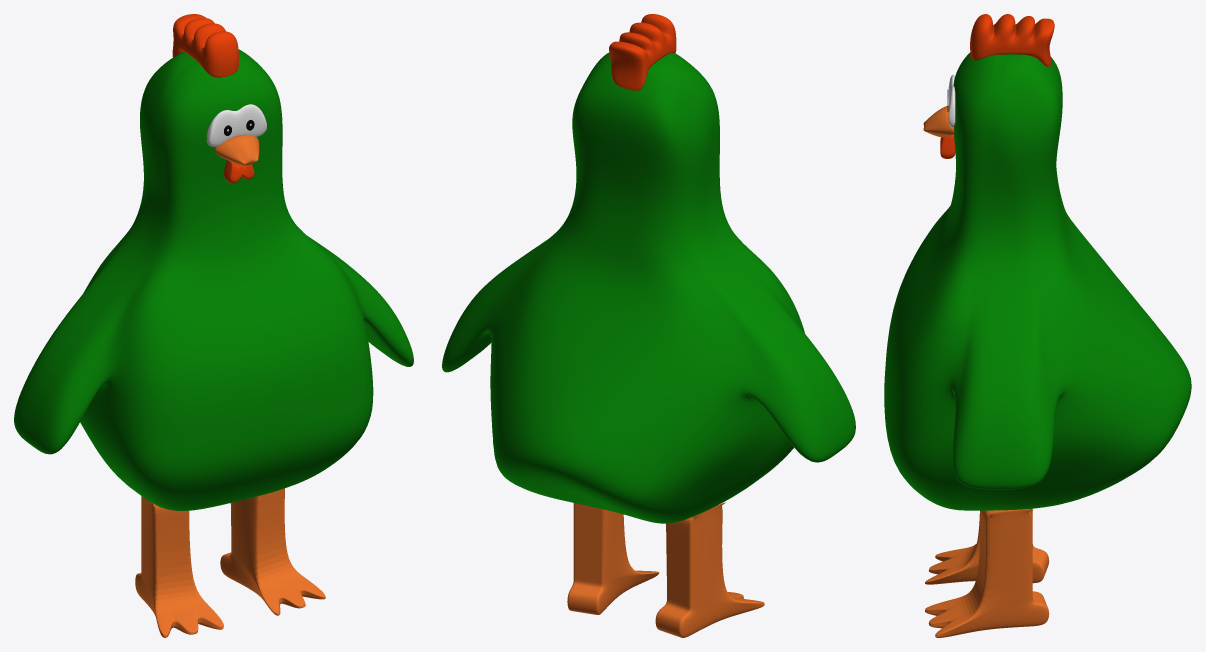
The model's file is TuppGreen.fbx.
3 views of the same model, side by side, from view 1: azimuth 30°, elevation 25°; view 2: azimuth 150°, elevation 25°; view 3: azimuth 270°, elevation 25° (orthographic). The views are drawn at different scales.
Parts seen in each view (by area): view 1: Body, Legs, Hair, Eyes, Beak; view 2: Body, Legs, Hair; view 3: Body, Legs, Hair, Beak.
Boxes of the visible parts, x1,y1,x2,y2 form: Body: (14,49,413,510); Legs: (135,488,325,637); Hair: (172,14,238,77); Eyes: (206,104,266,146); Beak: (214,134,259,165); Body: (442,52,855,523); Legs: (567,502,764,637); Hair: (609,14,676,90); Body: (884,52,1191,510); Legs: (925,508,1049,637); Hair: (970,14,1054,67); Beak: (923,105,954,137).
Size of the model in its own units: 526 by 777 by 372.
